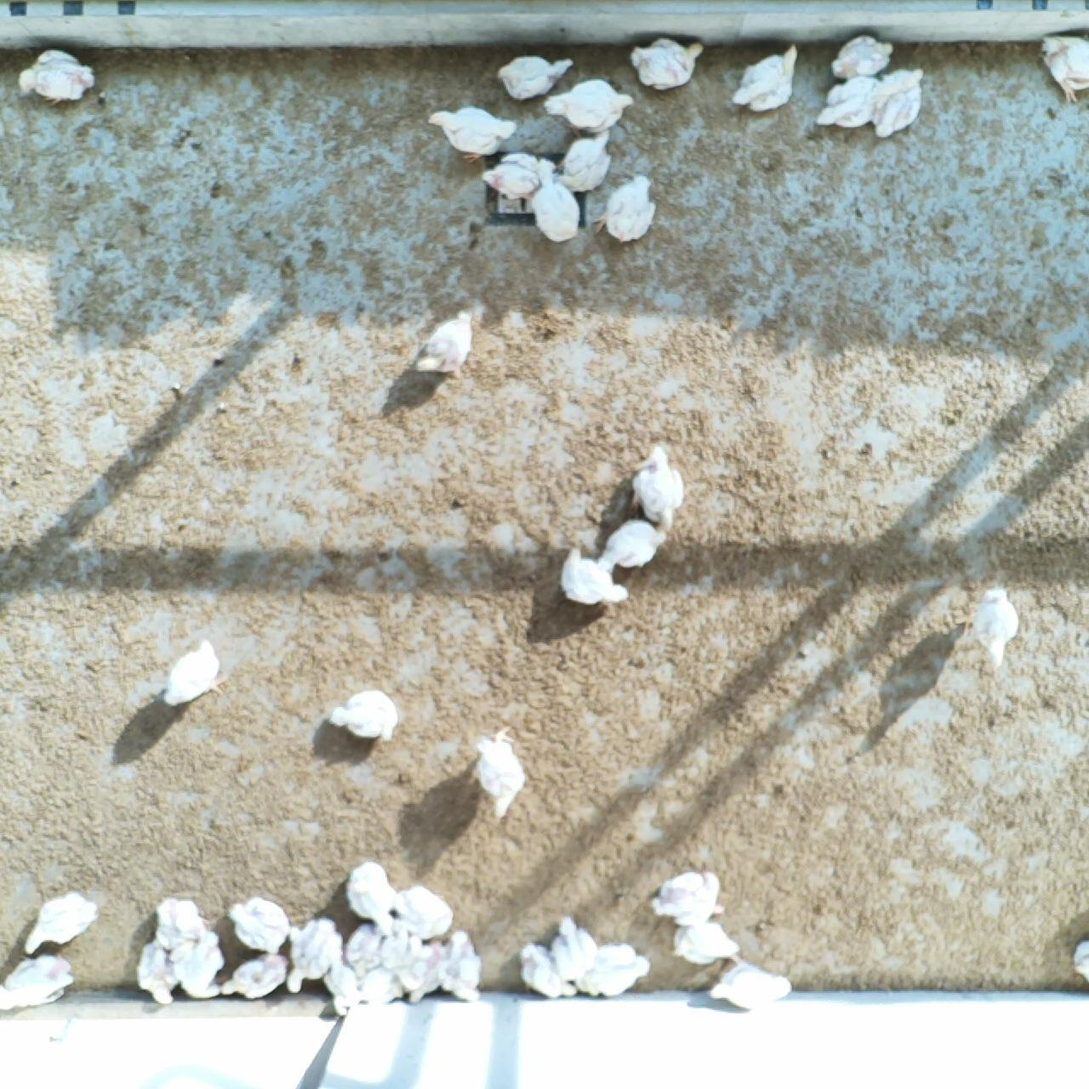chicken: (154, 632, 233, 711), (588, 165, 661, 250), (468, 723, 530, 820), (730, 39, 805, 117), (541, 75, 640, 134), (959, 578, 1026, 663), (407, 302, 478, 381), (425, 103, 518, 163), (625, 439, 683, 535), (16, 891, 99, 958), (527, 150, 583, 249), (285, 909, 350, 994), (554, 537, 633, 606), (1030, 22, 1089, 113), (594, 515, 677, 577), (630, 30, 711, 93), (495, 47, 580, 107), (0, 948, 78, 1013), (222, 891, 295, 960), (647, 862, 726, 924), (15, 47, 99, 105), (871, 63, 932, 141), (576, 938, 655, 998), (324, 685, 404, 744), (707, 959, 795, 1010), (553, 125, 616, 196), (341, 859, 402, 931), (389, 883, 464, 941), (165, 930, 226, 1000), (433, 928, 487, 1006), (515, 939, 580, 1001), (216, 949, 291, 1002), (545, 915, 600, 986), (829, 29, 898, 84), (667, 916, 747, 963), (812, 75, 883, 127), (153, 892, 216, 949), (133, 937, 180, 1008), (479, 150, 545, 197), (346, 917, 389, 978), (412, 938, 445, 1003), (353, 968, 404, 1007), (399, 936, 428, 991), (1065, 935, 1089, 990), (381, 926, 407, 969)
